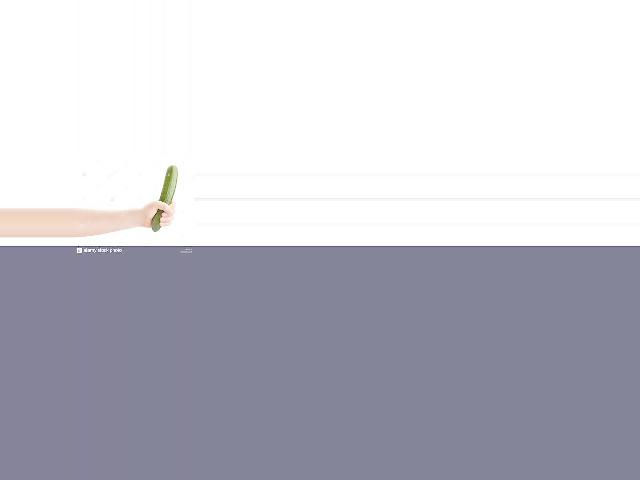cucumber: (152, 165, 178, 232)
